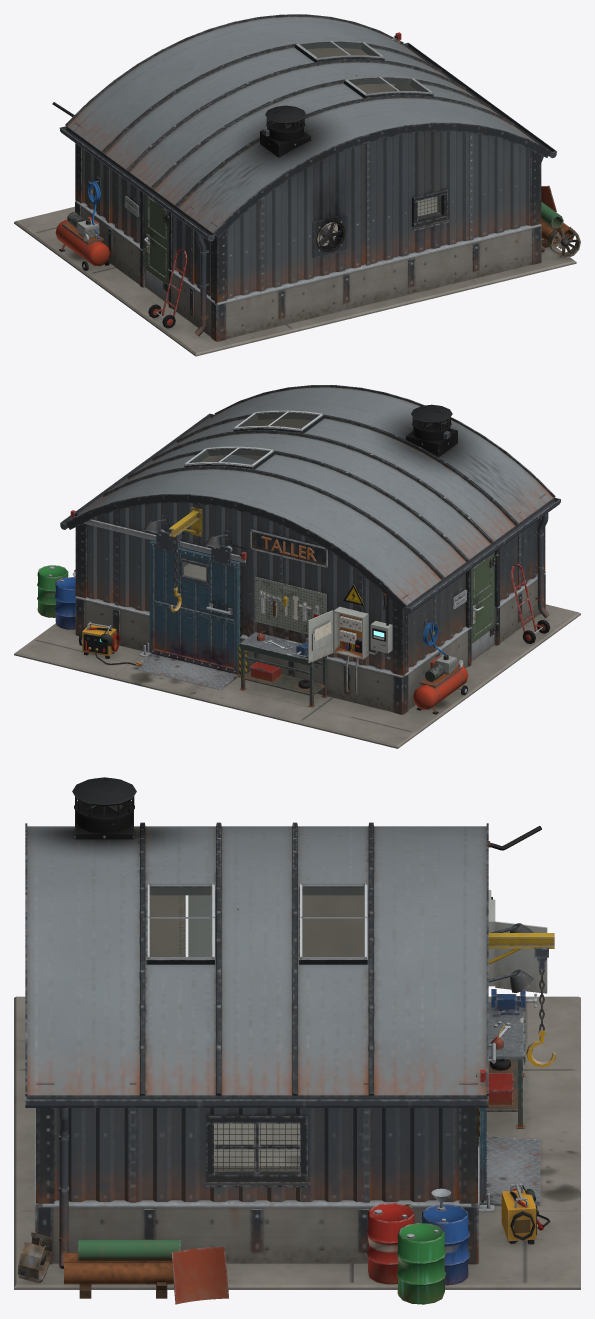
File: taller.fbx
The picture shows the model from 3 angles, top to bottom: view 1: azimuth 30°, elevation 25°; view 2: azimuth 150°, elevation 25°; view 3: azimuth 270°, elevation 25°; orthographic projection. The views are drawn at different scales.
Parts seen in each view (by area): view 1: techo, muros, zocalo, losa, canalones, lucernarios_marco, puerta_lateral, compresor, extractor, lucernarios_cristal, piezas_apiladas, ventilador_trasero (+3 smaller); view 2: techo, muros, losa, porton, zocalo, banco_trabajo, canalones, panel_herramientas, lucernarios_marco, puerta_lateral, bidones, compresor (+13 smaller); view 3: techo, muros, losa, zocalo, piezas_apiladas, bidones, lucernarios_cristal, canalones, ventana_lateral, banco_trabajo, lucernarios_marco, extractor (+8 smaller).
Part boxes in pixels (x1=…): techo: x1=65, y1=14, x2=551, y2=238; muros: x1=75, y1=44, x2=541, y2=302; zocalo: x1=75, y1=199, x2=541, y2=341; losa: x1=14, y1=197, x2=576, y2=356; canalones: x1=59, y1=42, x2=556, y2=336; lucernarios_marco: x1=295, y1=39, x2=433, y2=97; puerta_lateral: x1=144, y1=194, x2=169, y2=301; compresor: x1=55, y1=212, x2=110, y2=270; extractor: x1=260, y1=105, x2=311, y2=157; lucernarios_cristal: x1=301, y1=42, x2=427, y2=93; piezas_apiladas: x1=541, y1=185, x2=580, y2=258; ventilador_trasero: x1=312, y1=213, x2=347, y2=258; techo: x1=65, y1=385, x2=555, y2=610; muros: x1=75, y1=414, x2=545, y2=675; losa: x1=14, y1=563, x2=580, y2=748; porton: x1=149, y1=529, x2=239, y2=674; zocalo: x1=75, y1=571, x2=545, y2=714; banco_trabajo: x1=239, y1=631, x2=327, y2=707; canalones: x1=60, y1=413, x2=560, y2=618; panel_herramientas: x1=255, y1=576, x2=326, y2=634; lucernarios_marco: x1=184, y1=410, x2=323, y2=469; puerta_lateral: x1=471, y1=552, x2=499, y2=661; bidones: x1=37, y1=565, x2=76, y2=629; compresor: x1=413, y1=654, x2=467, y2=714; techo: x1=25, y1=822, x2=488, y2=1095; muros: x1=36, y1=895, x2=477, y2=1203; losa: x1=14, y1=996, x2=580, y2=1289; zocalo: x1=34, y1=1108, x2=479, y2=1264; piezas_apiladas: x1=17, y1=1232, x2=228, y2=1304; bidones: x1=366, y1=1188, x2=469, y2=1304; lucernarios_cristal: x1=150, y1=887, x2=364, y2=956; canalones: x1=25, y1=1095, x2=488, y2=1268; ventana_lateral: x1=203, y1=1113, x2=310, y2=1187; banco_trabajo: x1=486, y1=989, x2=537, y2=1128; lucernarios_marco: x1=146, y1=883, x2=367, y2=964; extractor: x1=72, y1=777, x2=136, y2=839.
Bounding box in the file's own units: 15.65 × 7.1 × 11.9.
4 materials, 1 textured.
